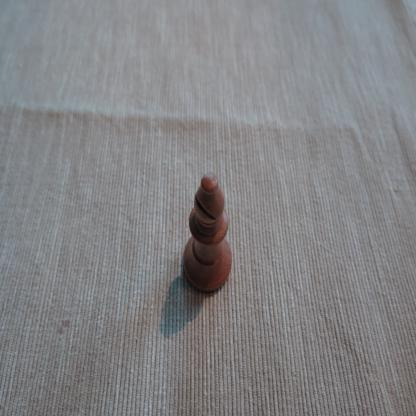white-bishop: (182, 171, 233, 294)
